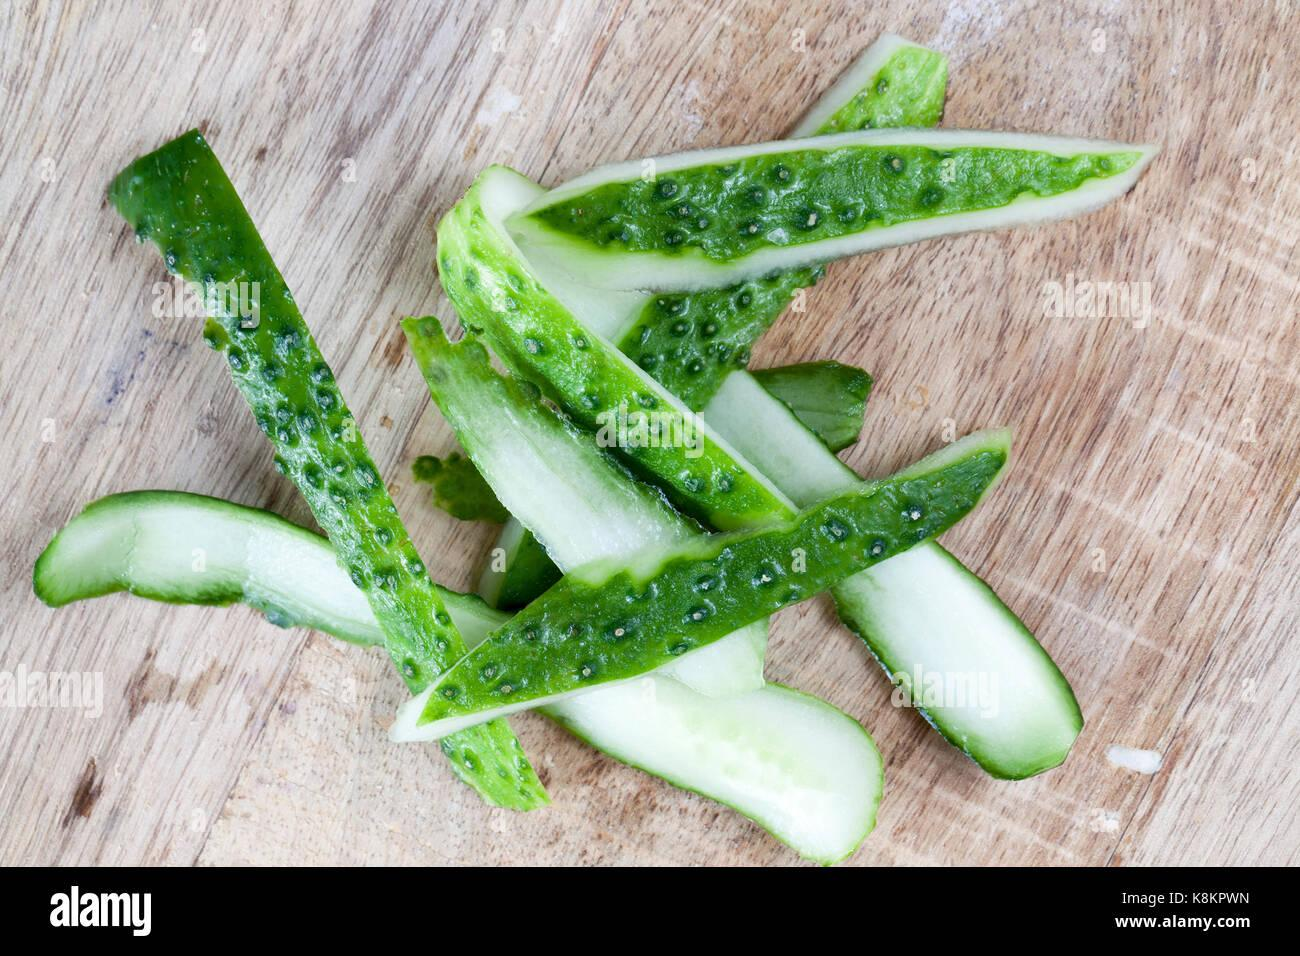organic: (28, 487, 886, 864), (106, 128, 552, 816), (384, 426, 1014, 745), (692, 356, 1084, 780), (432, 189, 801, 550), (499, 126, 1167, 296)
